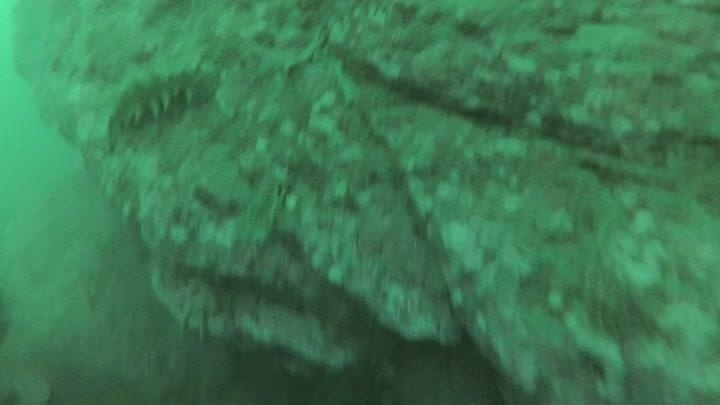holothurian: (106, 57, 225, 135)
